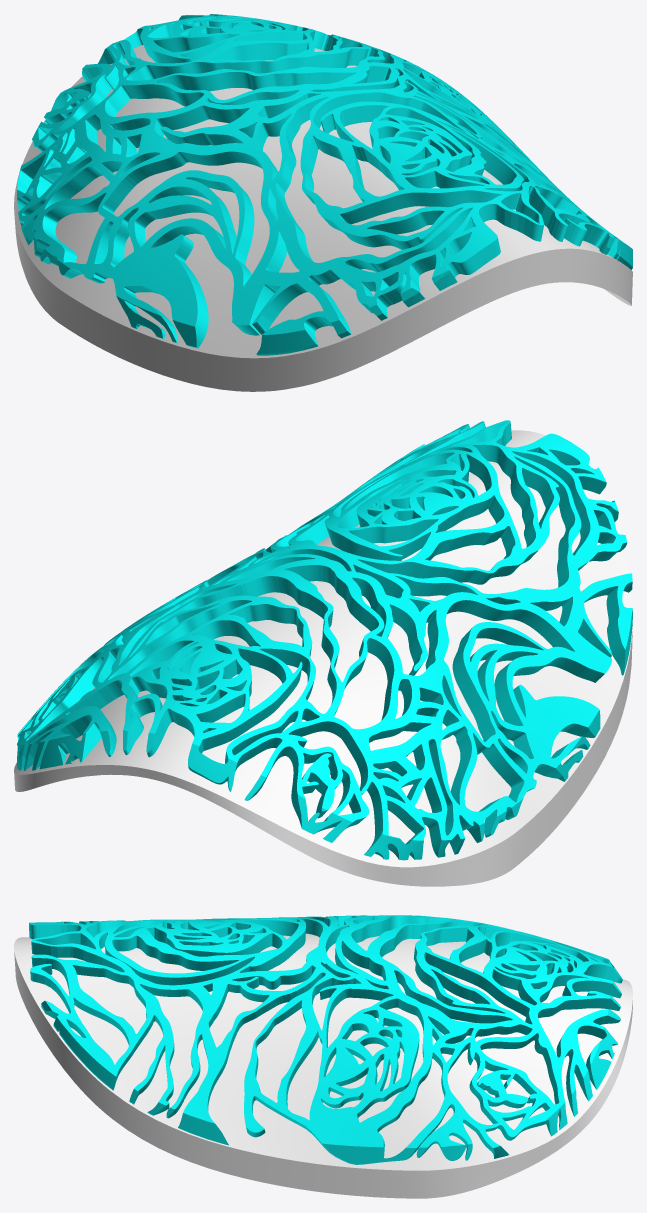
Rendered from leopard-rose-oval-web.glb.
3 views of the same model, one above another, from view 1: azimuth 30°, elevation 25°; view 2: azimuth 150°, elevation 25°; view 3: azimuth 270°, elevation 25° (orthographic). The views are drawn at different scales.
Bounding box in the file's own units: 0.0139 × 0.00641 × 0.0201.
